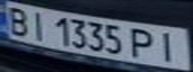1: (48, 14, 72, 47)
3: (84, 19, 106, 53), (66, 17, 87, 50)
5: (103, 21, 130, 56)
B: (3, 3, 33, 37)
I: (151, 29, 187, 64), (24, 9, 51, 39)
P: (127, 26, 160, 60)
